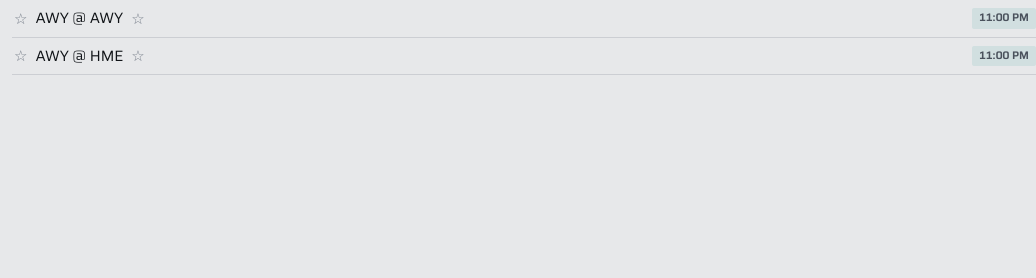
Test: MyTeams › shows one Next up row when two starred teams meet next
The width and height of the screenshot is (1036, 278).
Click the 2nd button "☆" at (138, 18), box x1=129 y1=9 x2=147 y2=28
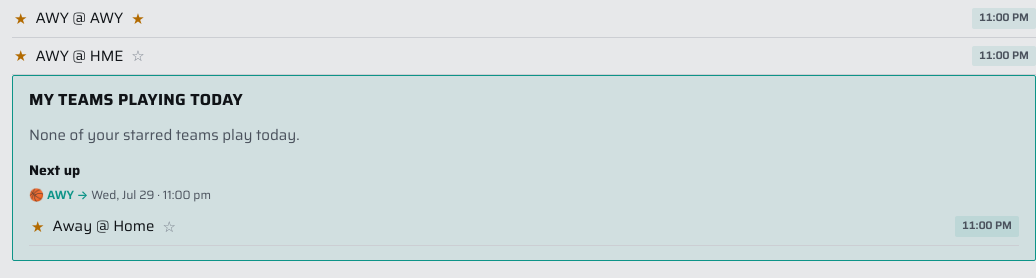
Click the button "☆" next to "HME" at (138, 56), box x1=129 y1=46 x2=147 y2=65
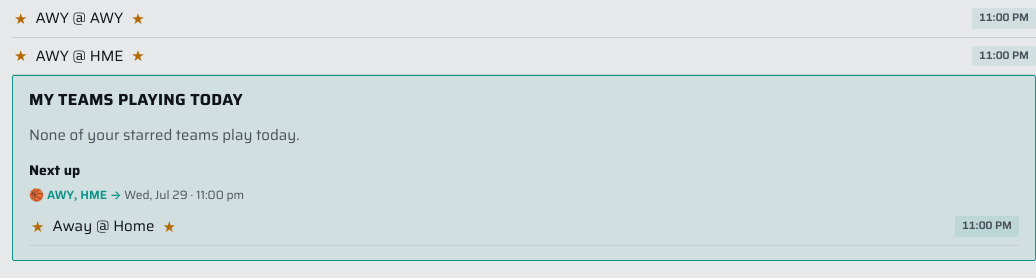
Result: the number of links titled "Open in NBA" is 1 at x1=29 y1=186 x2=244 y2=204
Result: the link titled "Open in NBA" shows "AWY, HME" at x1=29 y1=186 x2=244 y2=204
